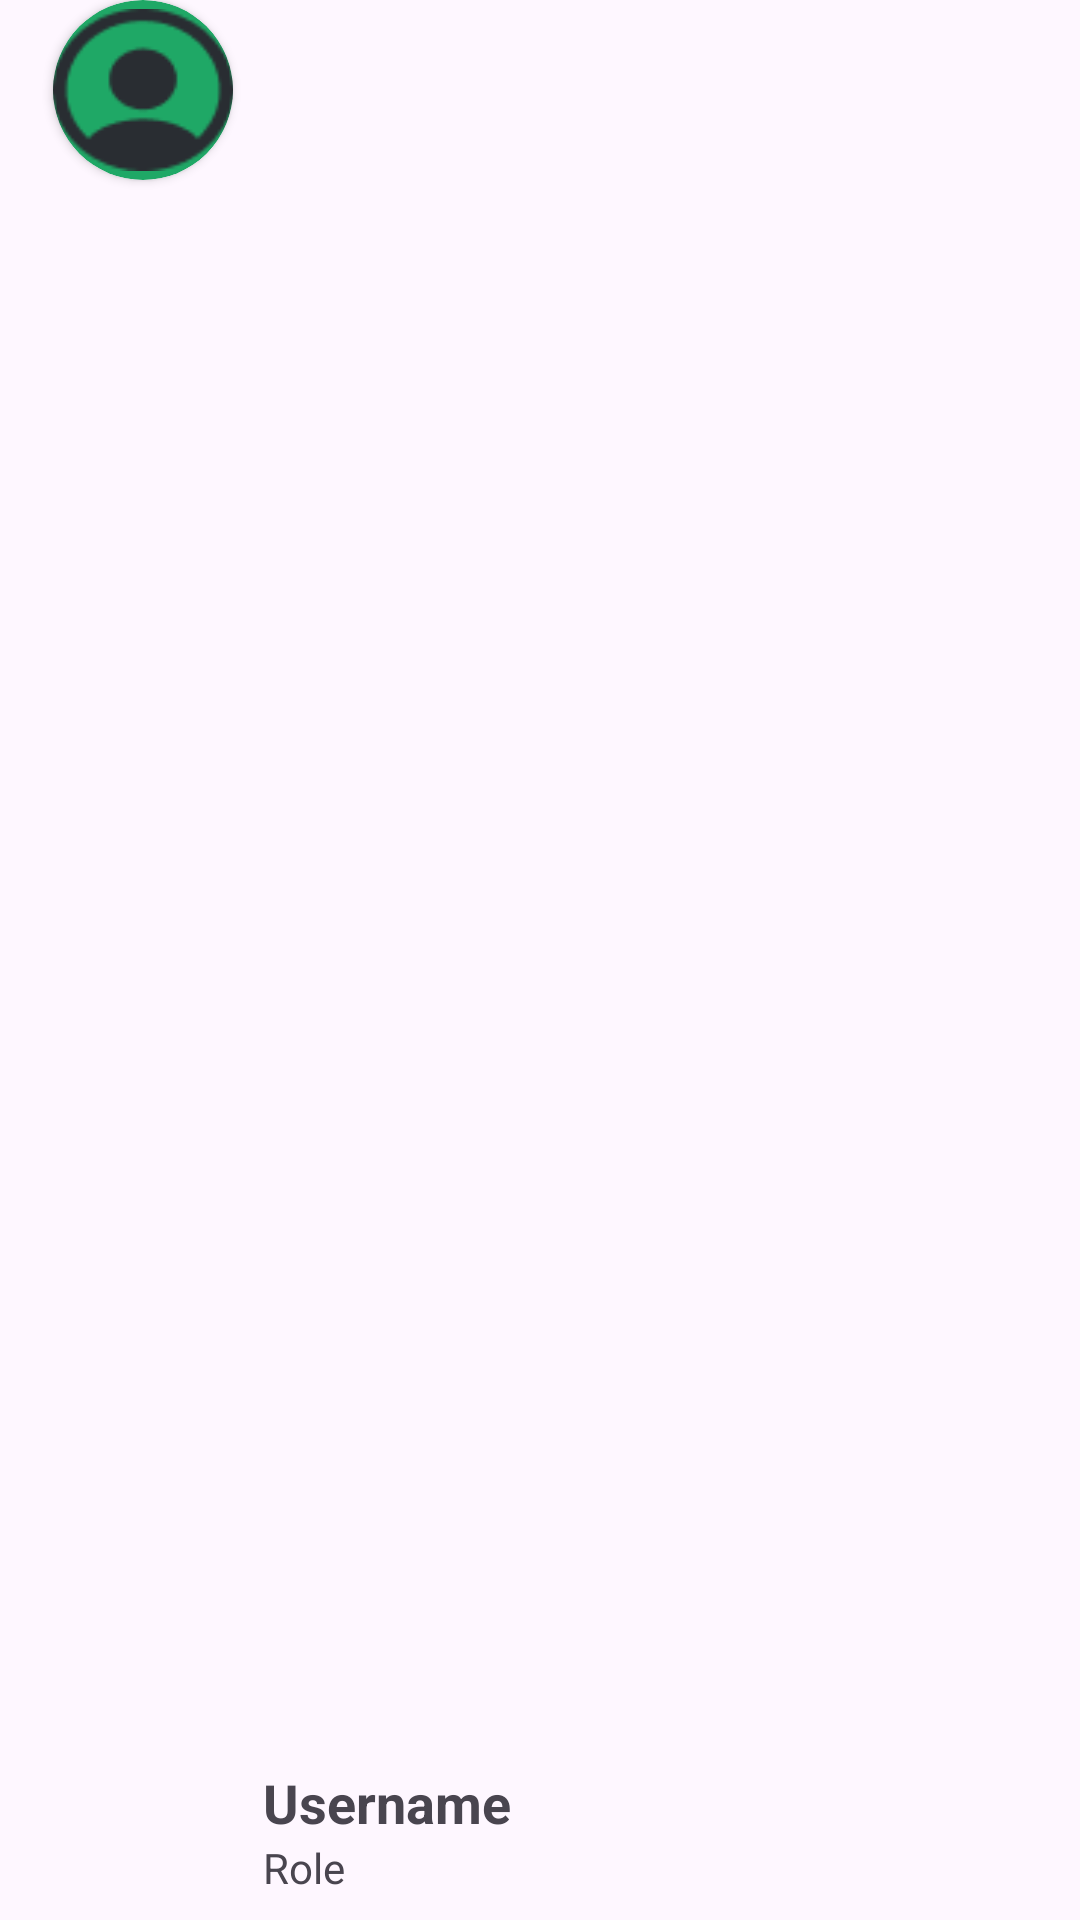

Icon click points for this 1080 × 1920 phone screenshot, format (x,y):
profile circle: (143,90)
